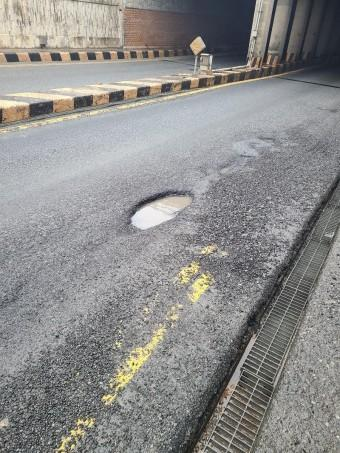pothole: (116, 178, 208, 237)
